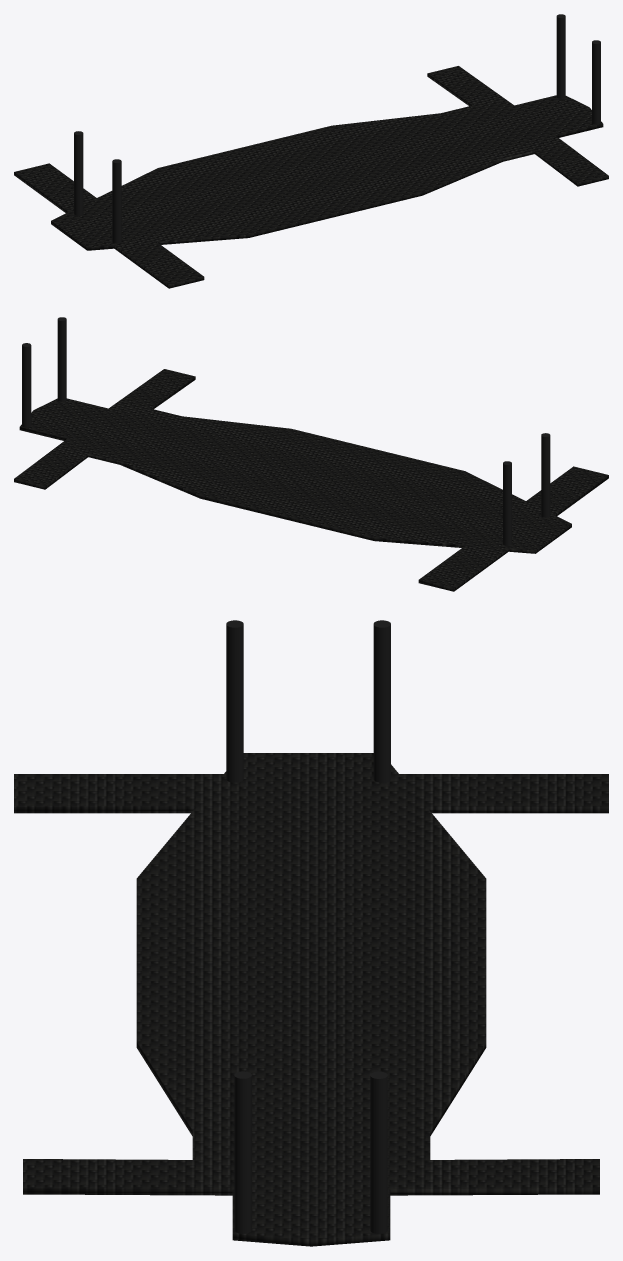
File: chasi.dae
3 renders of one model, top to bottom at view 1: azimuth 30°, elevation 25°; view 2: azimuth 150°, elevation 25°; view 3: azimuth 270°, elevation 25°, orthographic. The views are drawn at different scales.
Visible parts, largest first — view 1: Chasi_Low, Cylinder, Cylinder_001, Cylinder_002, Cylinder_003; view 2: Chasi_Low, Cylinder_003, Cylinder, Cylinder_002, Cylinder_001; view 3: Chasi_Low, Cylinder_001, Cylinder_002, Cylinder_003, Cylinder.
Boxes of the visible parts, box(x1,y1,x2,y2) form: Chasi_Low: box(14, 66, 608, 288); Cylinder: box(112, 159, 121, 243); Cylinder_001: box(74, 131, 83, 215); Cylinder_002: box(556, 14, 565, 98); Cylinder_003: box(592, 40, 600, 124); Chasi_Low: box(14, 369, 608, 591); Cylinder_003: box(57, 317, 66, 401); Cylinder: box(541, 433, 550, 517); Cylinder_002: box(22, 343, 31, 427); Cylinder_001: box(503, 461, 511, 545); Chasi_Low: box(14, 753, 608, 1246); Cylinder_001: box(373, 620, 390, 782); Cylinder_002: box(370, 1071, 387, 1233); Cylinder_003: box(234, 1071, 251, 1233); Cylinder: box(226, 620, 243, 782).
Size of the model in its own units: 0.3298 by 0.1701 by 0.0509.
Materials: 2 (1 with a texture image).
